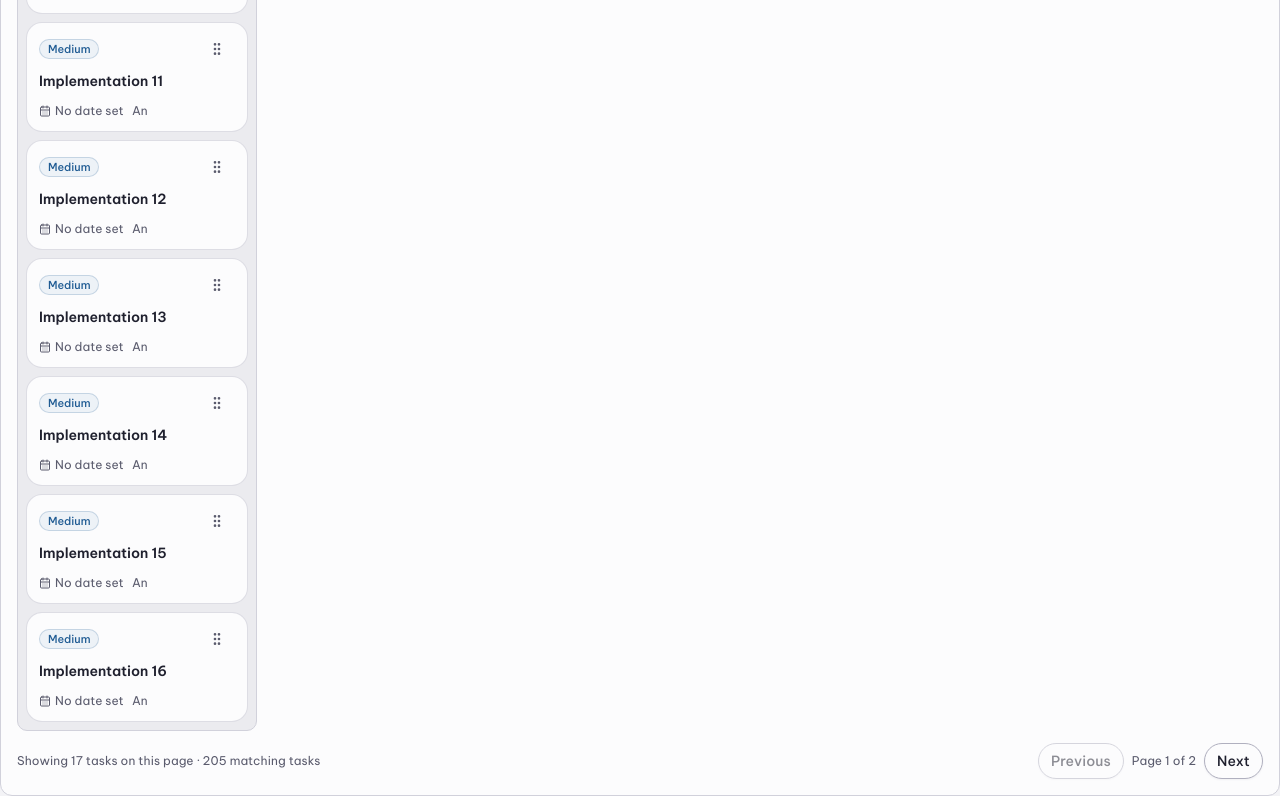
Test case: task list interactions › exposes pagination for board and preserves filters while navigating beyond loaded work
(page scrolled)
Expected: the text "Showing 17 tasks on this page · 205 matching tasks" is shown, [17,753,320,769]
Expected: the button "Previous" is disabled, [1038,743,1124,779]
Step 1. Click the button "Next" → {"x": 1234, "y": 761}, box [1204,743,1263,779]
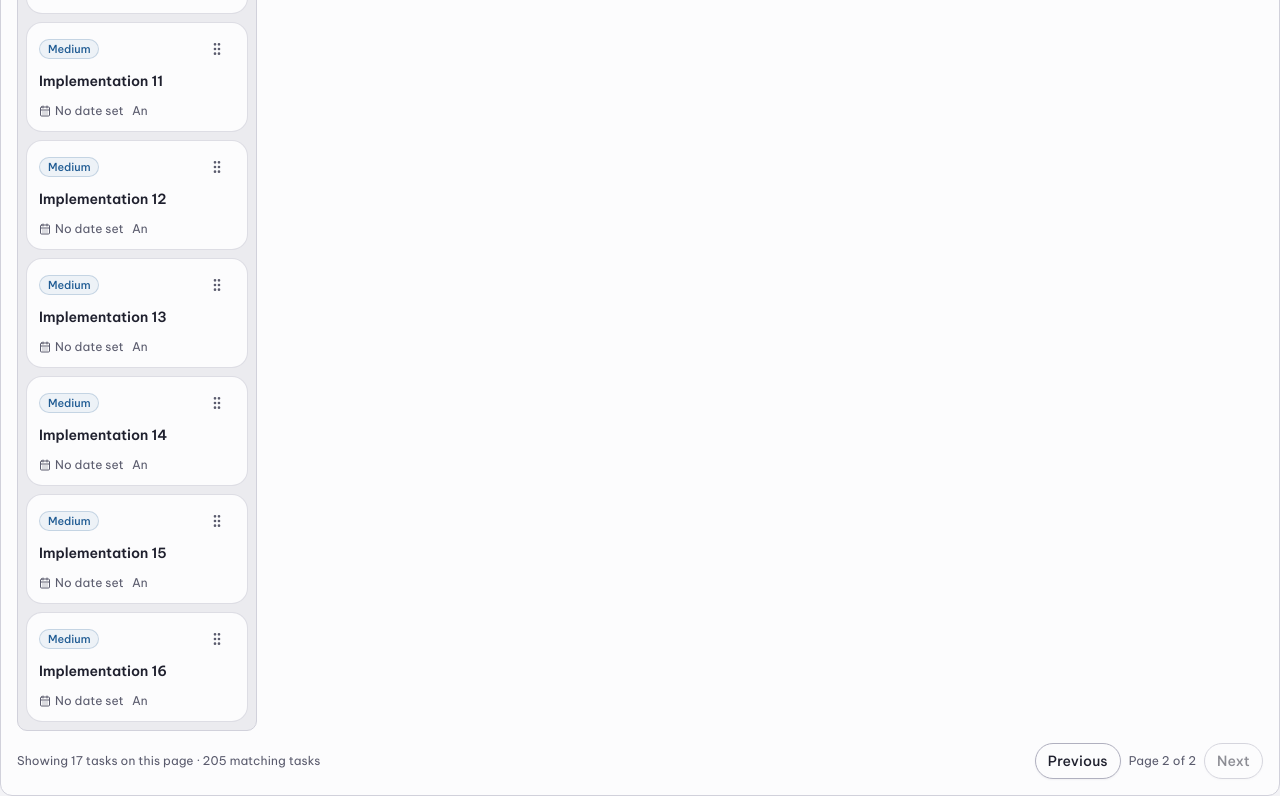
Now the button "Next" is disabled, box [1204,743,1263,779]
Now the button "Previous" is enabled, box [1035,743,1121,779]
